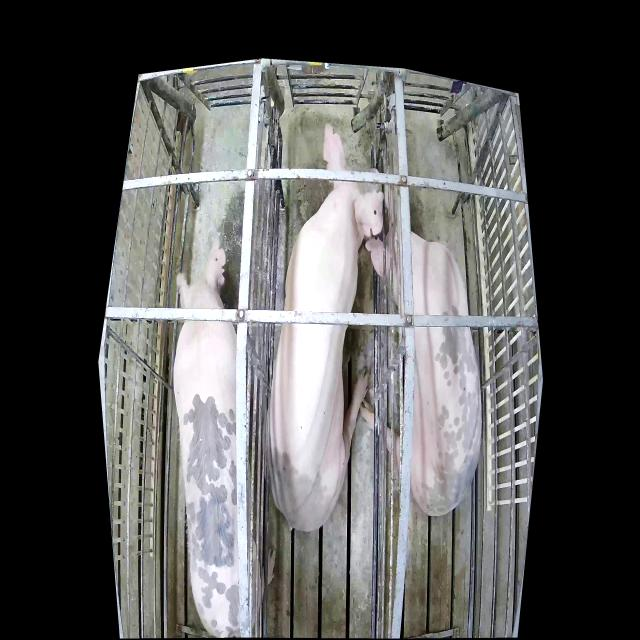pig: (268, 120, 384, 530), (172, 237, 276, 635), (360, 182, 482, 519)
